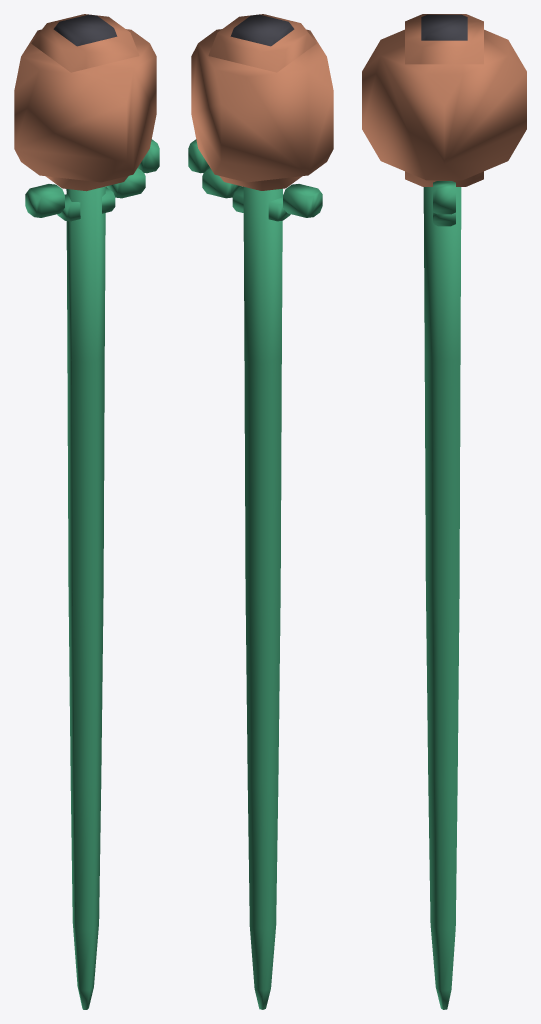
The model's file is hatpin.glb.
The picture shows the model from 3 angles, left to right: view 1: azimuth 30°, elevation 25°; view 2: azimuth 150°, elevation 25°; view 3: azimuth 270°, elevation 25°; orthographic projection.
Visible parts, largest first — view 1: pin; view 2: pin; view 3: pin.
Part boxes in pixels (<box>): pin: <box>14,14,159,1009</box>; pin: <box>188,14,333,1009</box>; pin: <box>362,14,526,1009</box>.
Bounding box in the file's own units: 0.0707 × 0.466 × 0.0707.
